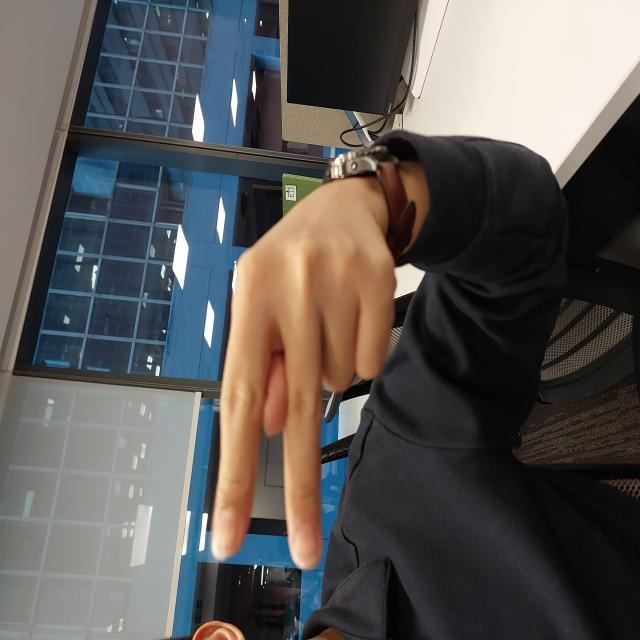K: (73, 211, 427, 396)
